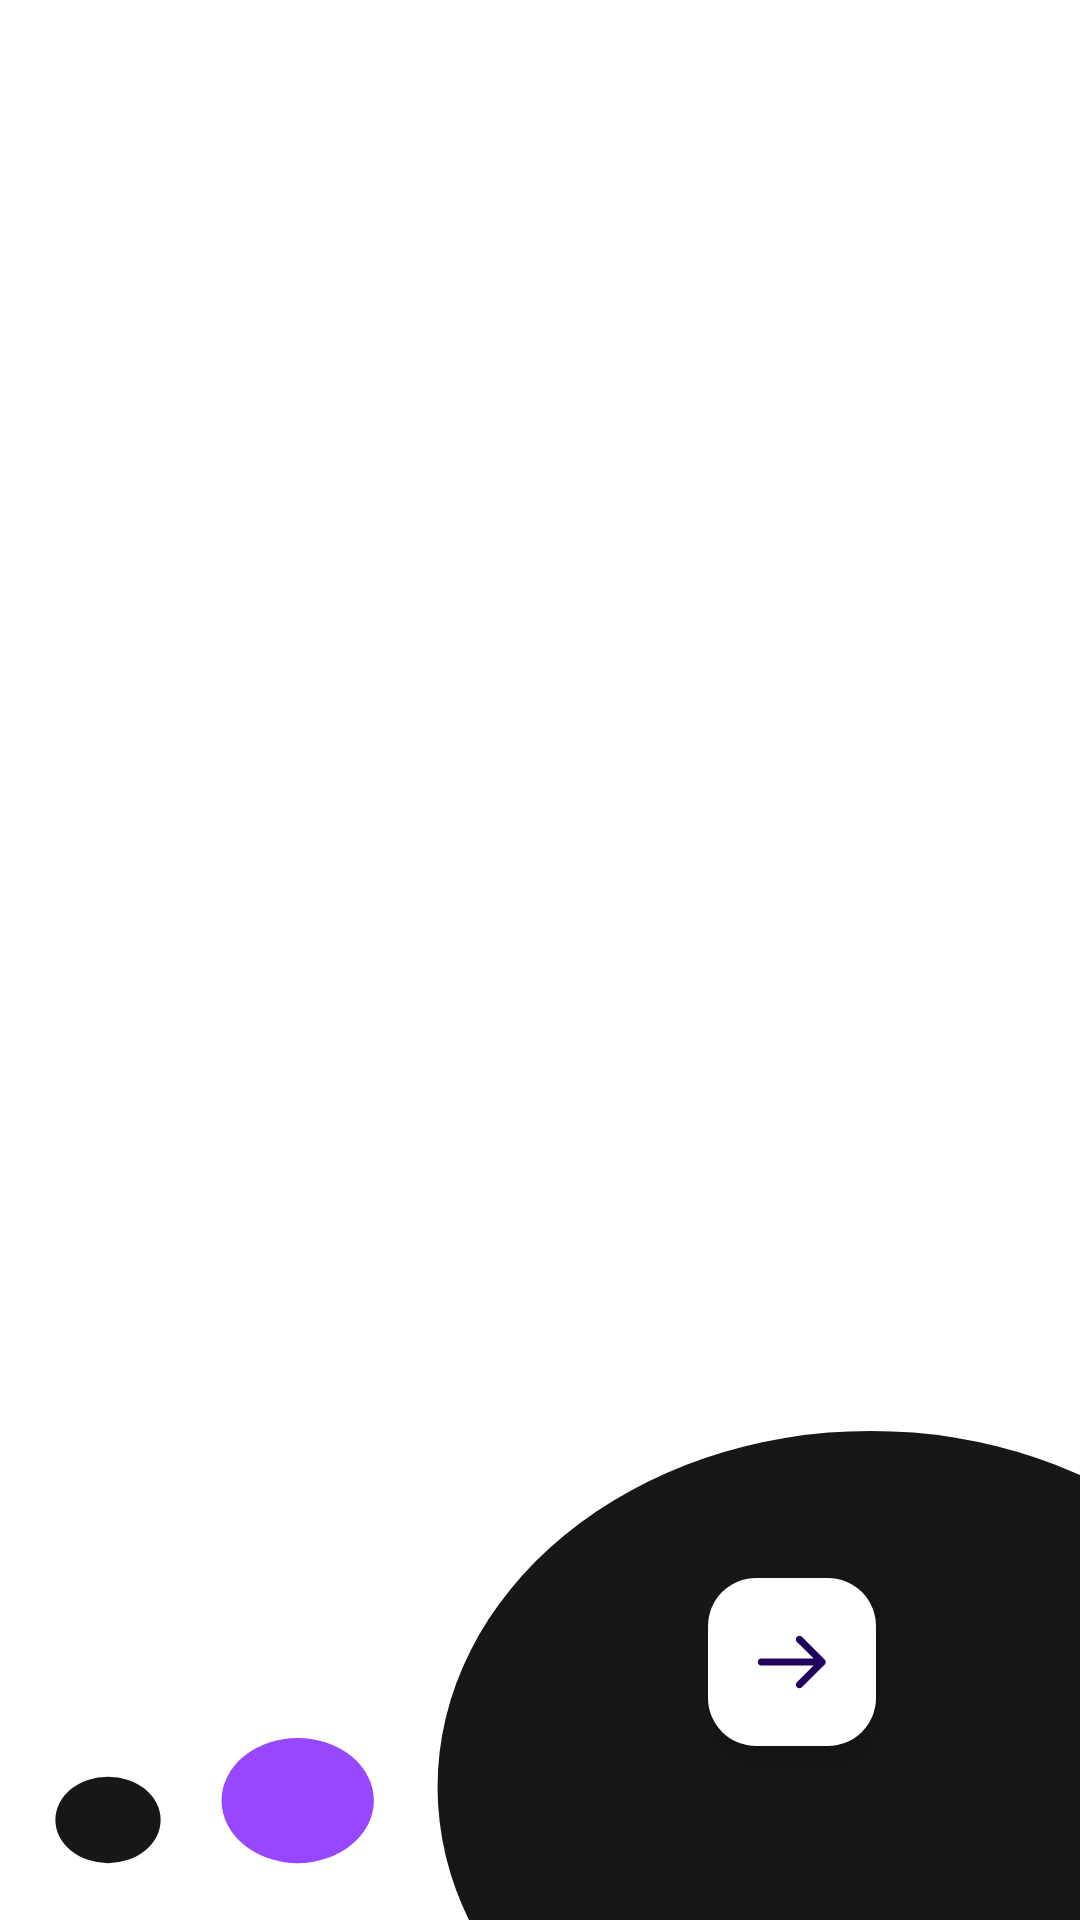

Icon bounding boxes for this 1080x1920 phone screenshot, format (x1, y1, x2, y2):
arrow: (708, 1578, 876, 1746)
